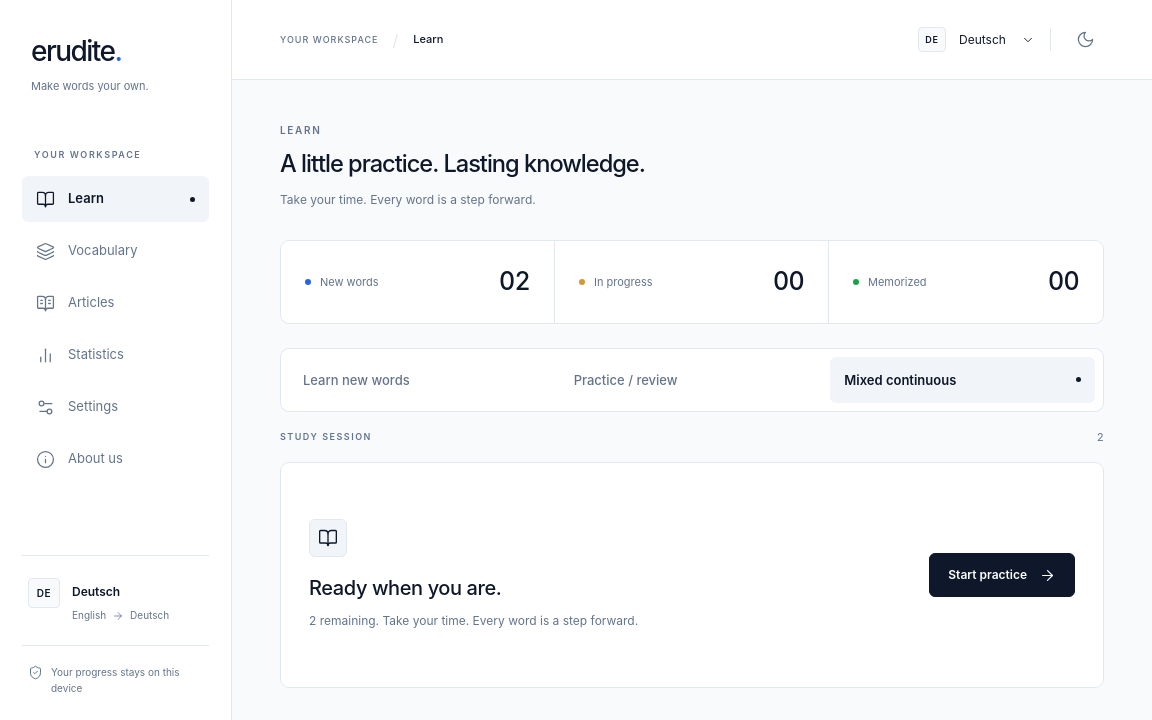
restores the active card, queue and undo without committing another recall
The width and height of the screenshot is (1152, 720).
Click the button "Start practice". click: (1002, 575)
box: [929,553,1075,597]
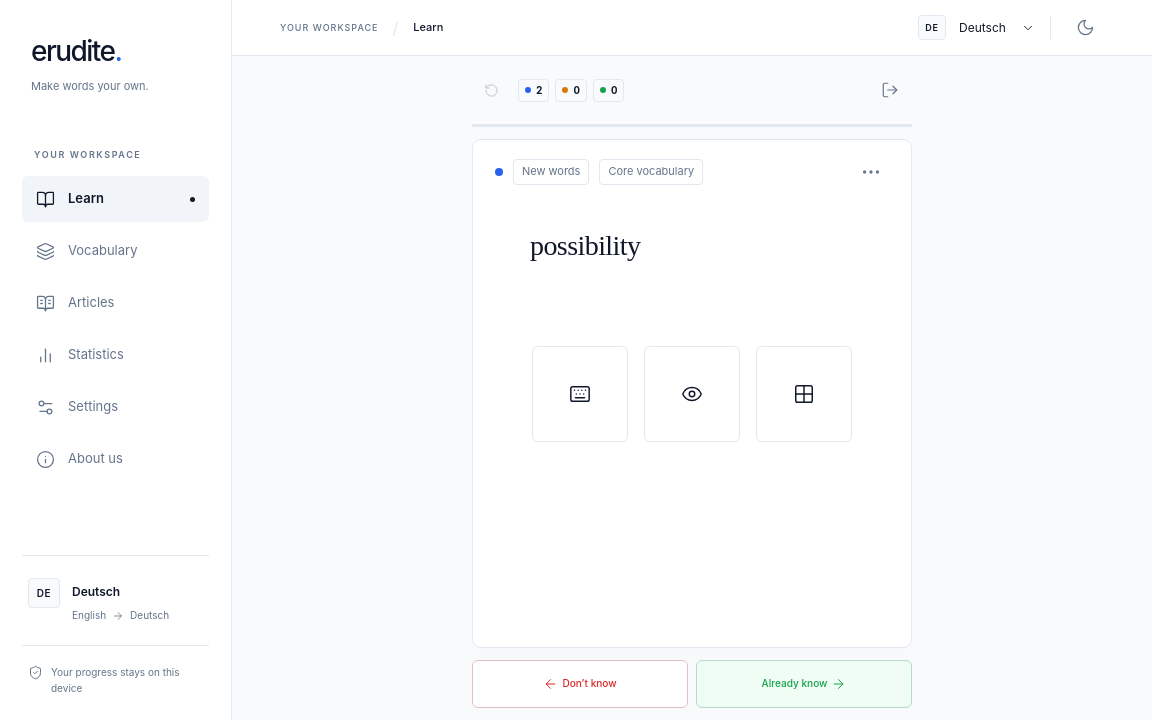
Click the button with class "action-know". click: (804, 684)
box: [696,660,912,708]
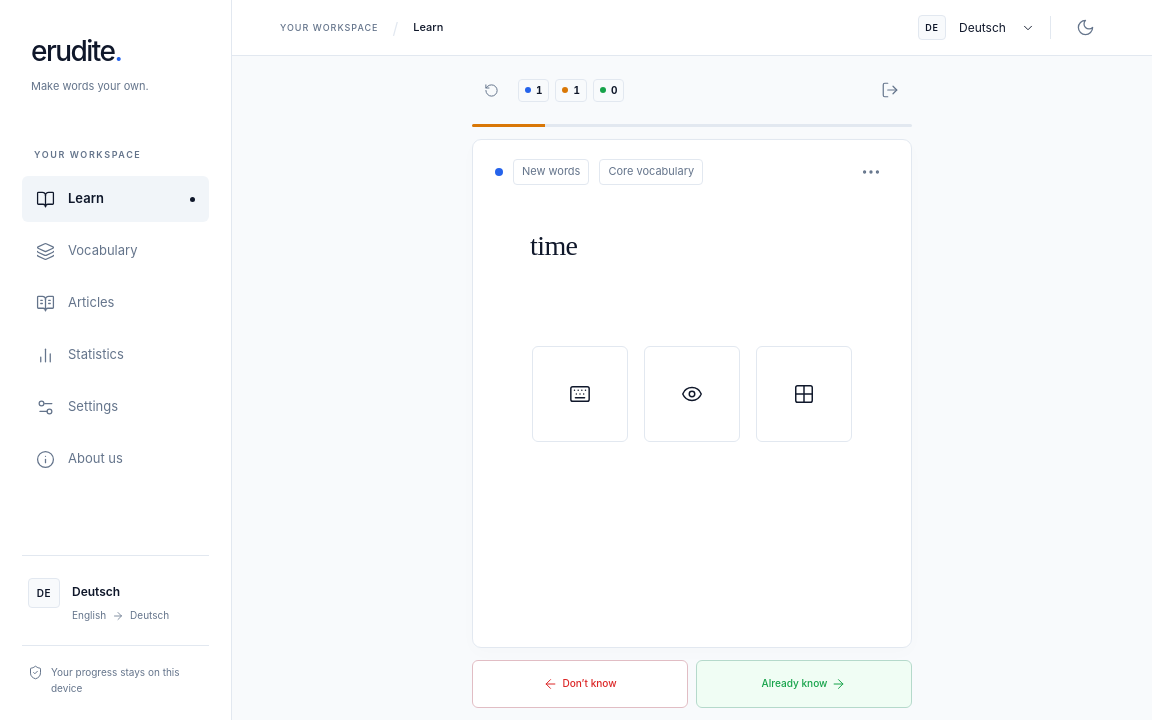
Now the heading "possibility" no longer shows "possibility"
Now the heading "time" is shown, box [530,230,577,261]
Click the button named "Undo". click: (491, 90)
box: [472,71,510,109]
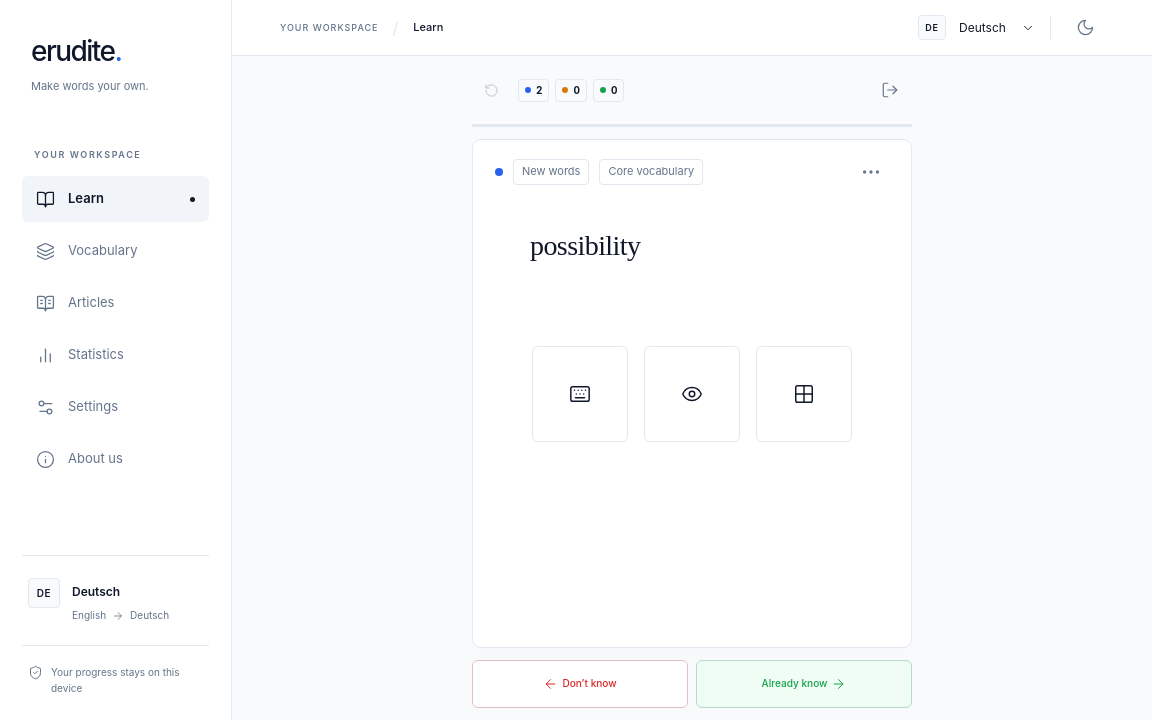
Now the heading "possibility" is shown, box [530,230,640,261]
